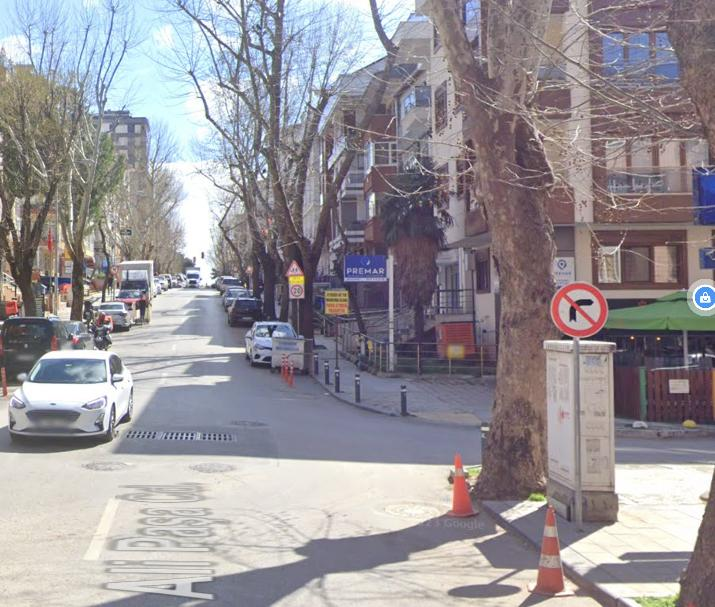rightturnsareforbidden: (550, 284, 611, 336)
